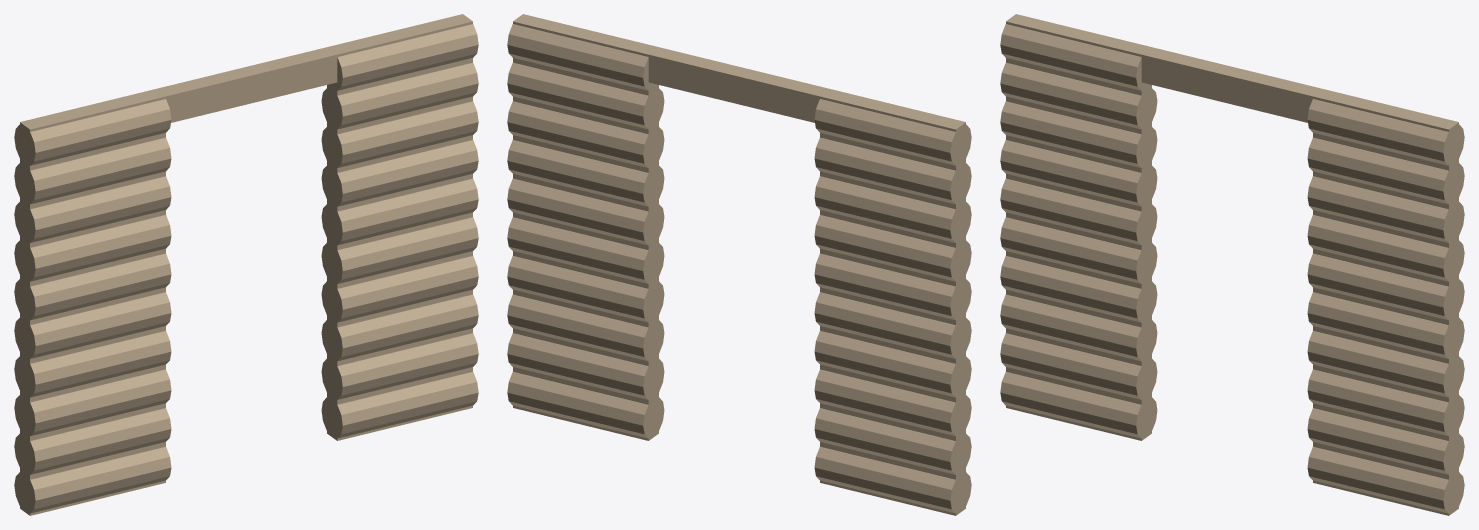
Rendered from wall-log-door-0-lod0.glb.
3 renders of one model, left to right at view 1: azimuth 30°, elevation 25°; view 2: azimuth 150°, elevation 25°; view 3: azimuth 330°, elevation 25°, orthographic.
Visible parts, largest first — view 1: Log infill.002, Log infill.001, Log infill.003, Hewn stacked log.018, Hewn stacked log.012, Hewn stacked log.016, Hewn stacked log.020, Hewn stacked log.028, Hewn stacked log.014, Hewn stacked log.010, Hewn stacked log.022, Hewn stacked log.026 (+11 smaller); view 2: Log infill.001, Log infill.002, Log infill.003, Hewn stacked log.011, Hewn stacked log.021, Hewn stacked log.017, Hewn stacked log.019, Hewn stacked log.013, Hewn stacked log.023, Hewn stacked log.025, Hewn stacked log.027, Hewn stacked log.015 (+11 smaller); view 3: Log infill.002, Log infill.001, Log infill.003, Hewn stacked log.020, Hewn stacked log.026, Hewn stacked log.016, Hewn stacked log.022, Hewn stacked log.018, Hewn stacked log.010, Hewn stacked log.012, Hewn stacked log.014, Hewn stacked log.024 (+11 smaller).
Boxes of the visible parts, bbox=[...] form: Log infill.002: bbox=[327, 14, 472, 440]; Log infill.001: bbox=[20, 89, 165, 515]; Log infill.003: bbox=[156, 47, 337, 122]; Hewn stacked log.018: bbox=[14, 292, 171, 358]; Hewn stacked log.012: bbox=[14, 408, 171, 474]; Hewn stacked log.016: bbox=[14, 331, 171, 397]; Hewn stacked log.020: bbox=[14, 253, 171, 320]; Hewn stacked log.028: bbox=[14, 99, 171, 165]; Hewn stacked log.014: bbox=[14, 369, 171, 436]; Hewn stacked log.010: bbox=[14, 446, 171, 513]; Hewn stacked log.022: bbox=[14, 215, 171, 281]; Hewn stacked log.026: bbox=[14, 137, 171, 204]; Log infill.001: bbox=[820, 89, 965, 515]; Log infill.002: bbox=[513, 14, 658, 440]; Log infill.003: bbox=[648, 47, 829, 122]; Hewn stacked log.011: bbox=[507, 372, 664, 438]; Hewn stacked log.021: bbox=[507, 178, 664, 245]; Hewn stacked log.017: bbox=[507, 256, 664, 322]; Hewn stacked log.019: bbox=[507, 217, 664, 283]; Hewn stacked log.013: bbox=[507, 333, 664, 399]; Hewn stacked log.023: bbox=[507, 140, 664, 206]; Hewn stacked log.025: bbox=[507, 101, 664, 167]; Hewn stacked log.027: bbox=[507, 62, 664, 129]; Hewn stacked log.015: bbox=[507, 294, 664, 361]; Log infill.002: bbox=[1313, 89, 1458, 515]; Log infill.001: bbox=[1006, 14, 1151, 440]; Log infill.003: bbox=[1141, 47, 1322, 122]; Hewn stacked log.020: bbox=[1000, 178, 1157, 245]; Hewn stacked log.026: bbox=[1000, 62, 1157, 129]; Hewn stacked log.016: bbox=[1000, 256, 1157, 322]; Hewn stacked log.022: bbox=[1000, 140, 1157, 206]; Hewn stacked log.018: bbox=[1000, 217, 1157, 283]; Hewn stacked log.010: bbox=[1000, 372, 1157, 438]; Hewn stacked log.012: bbox=[1000, 333, 1157, 399]; Hewn stacked log.014: bbox=[1000, 294, 1157, 361]; Hewn stacked log.024: bbox=[1000, 101, 1157, 167].
Bounding box in the file's own units: 3 × 2.5 × 0.25.
